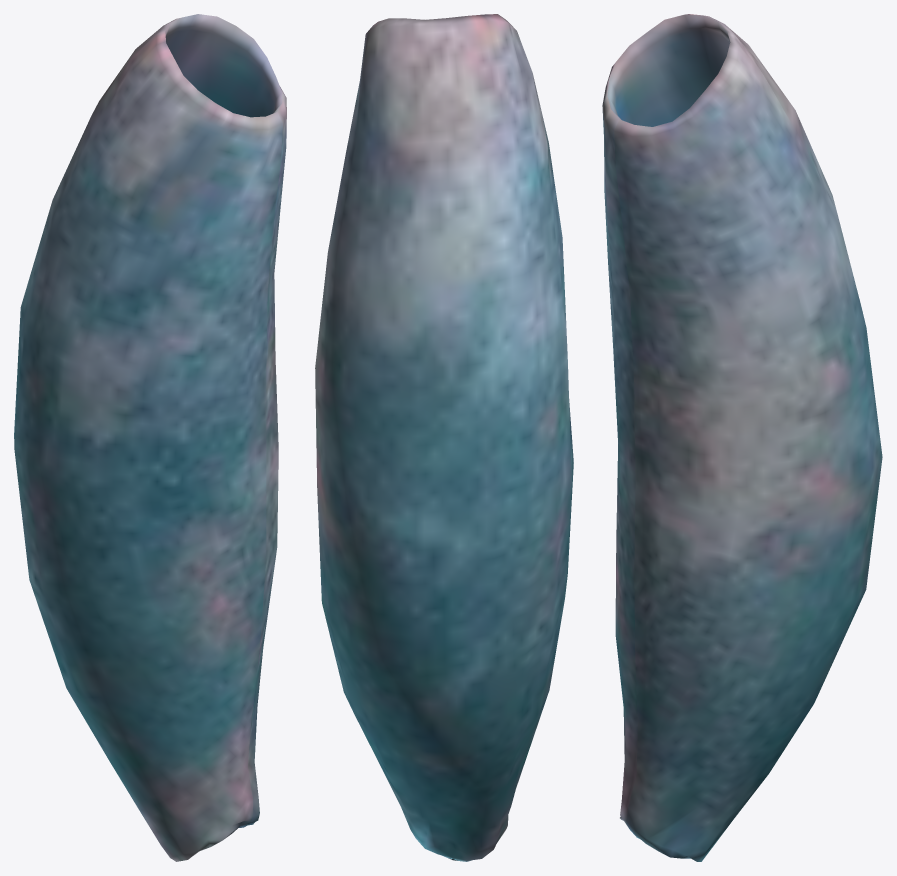
Rendered from PipeSponge_01-transformed.glb.
3 views of the same model, side by side, from view 1: azimuth 30°, elevation 25°; view 2: azimuth 150°, elevation 25°; view 3: azimuth 270°, elevation 25° (orthographic). The views are drawn at different scales.
Parts seen in each view (by area): view 1: PipeSponge_01; view 2: PipeSponge_01; view 3: PipeSponge_01.
Part boxes in pixels (x1,y1,x2,y2): PipeSponge_01: (14, 14, 286, 861); PipeSponge_01: (315, 14, 573, 861); PipeSponge_01: (602, 14, 882, 861).
Size of the model in its own units: 2.04 by 7.13 by 2.17.
Materials: 1 (1 with a texture image).
